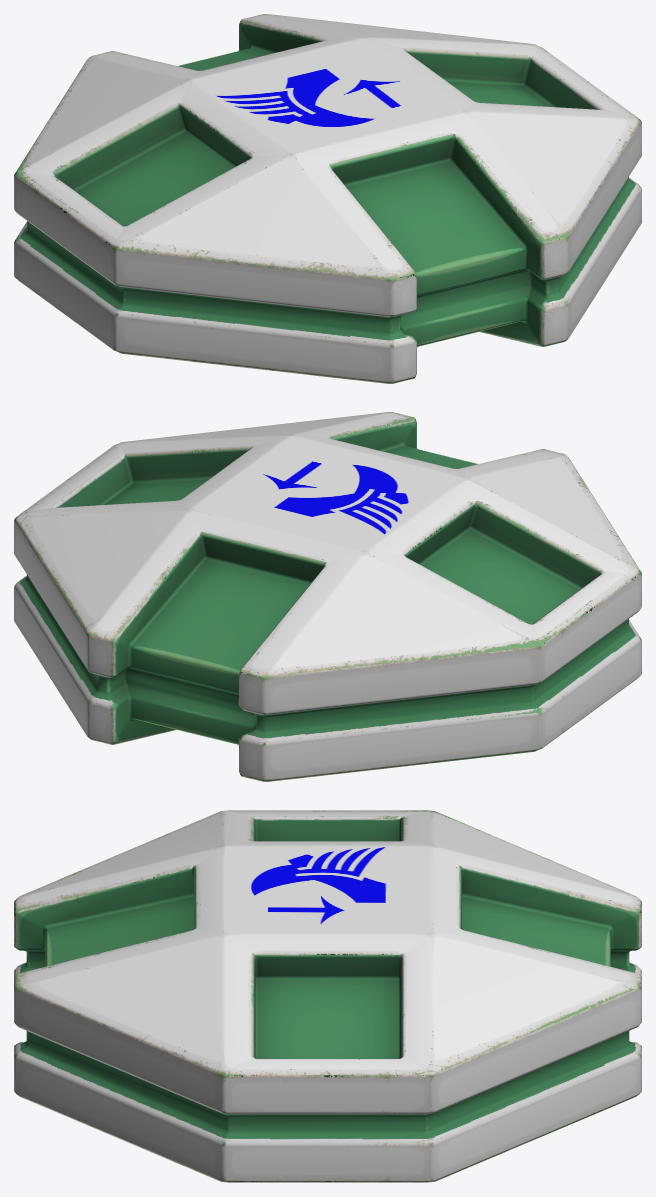
File: SpeedUp.fbx
The picture shows the model from 3 angles, top to bottom: view 1: azimuth 30°, elevation 25°; view 2: azimuth 150°, elevation 25°; view 3: azimuth 270°, elevation 25°; orthographic projection. The views are drawn at different scales.
Parts seen in each view (by area): view 1: SpeedUp; view 2: SpeedUp; view 3: SpeedUp.
Part boxes in pixels (x1,y1,x2,y2): SpeedUp: (14, 14, 641, 383); SpeedUp: (14, 412, 641, 781); SpeedUp: (14, 810, 641, 1182).
Size of the model in its own units: 100 by 37.48 by 100.
